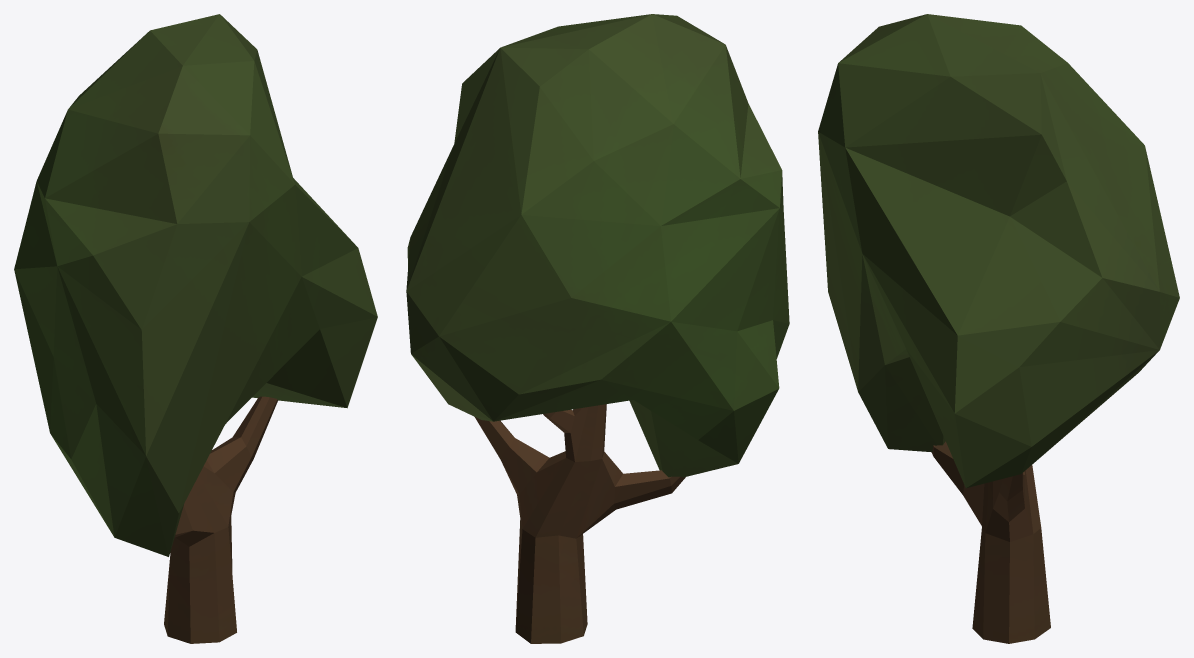
The model's file is Tree5.fbx.
The picture shows the model from 3 angles, left to right: view 1: azimuth 30°, elevation 25°; view 2: azimuth 150°, elevation 25°; view 3: azimuth 270°, elevation 25°; orthographic projection. The views are drawn at different scales.
Parts seen in each view (by area): view 1: Tree5; view 2: Tree5; view 3: Tree5.
Boxes of the visible parts, x1,y1,x2,y2 form: Tree5: (14, 14, 377, 643); Tree5: (406, 14, 789, 643); Tree5: (818, 14, 1179, 643).
Size of the model in its own units: 268 by 462 by 258.
